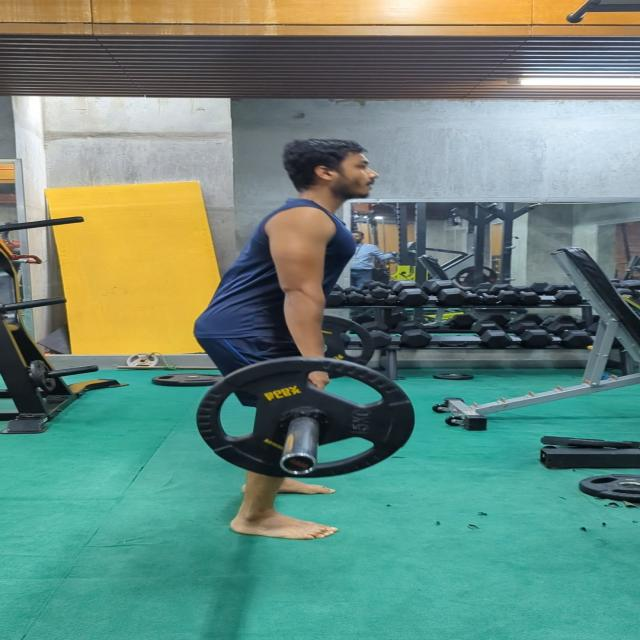Normal_Deadlifts: (186, 138, 382, 542)
